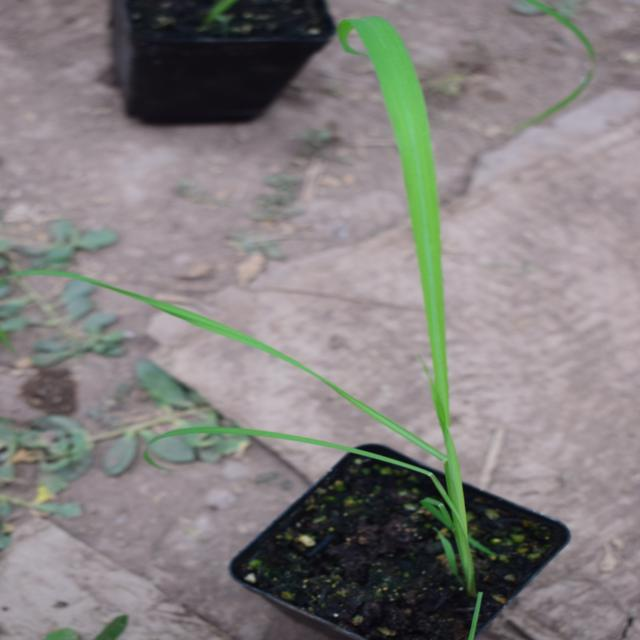barnyard_grass: (64, 139, 616, 509)
